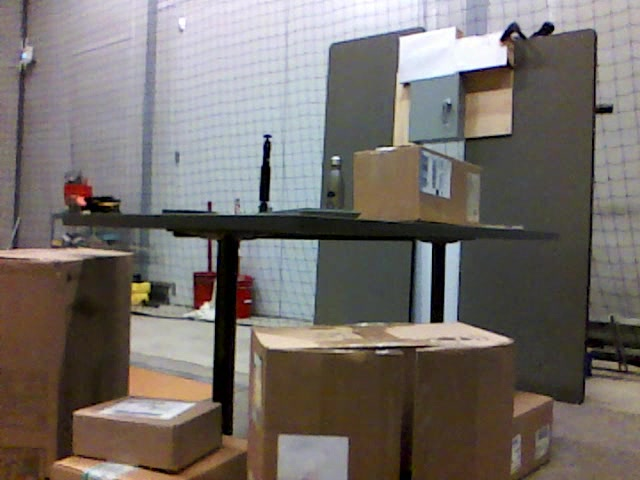box: (250, 325, 515, 478), (1, 246, 131, 480), (73, 397, 221, 473), (353, 145, 482, 224), (513, 391, 553, 480)
